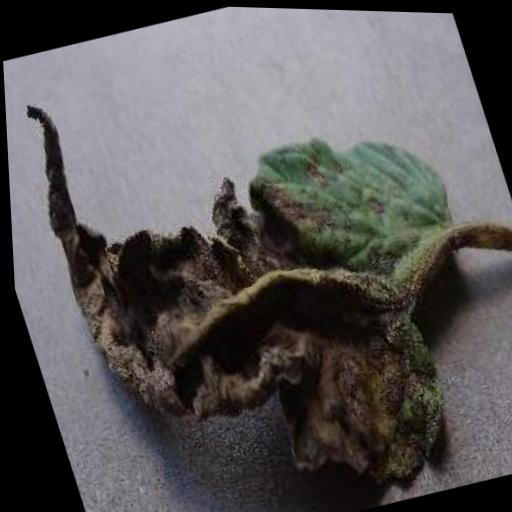Early Blight: (2, 1, 512, 512)
